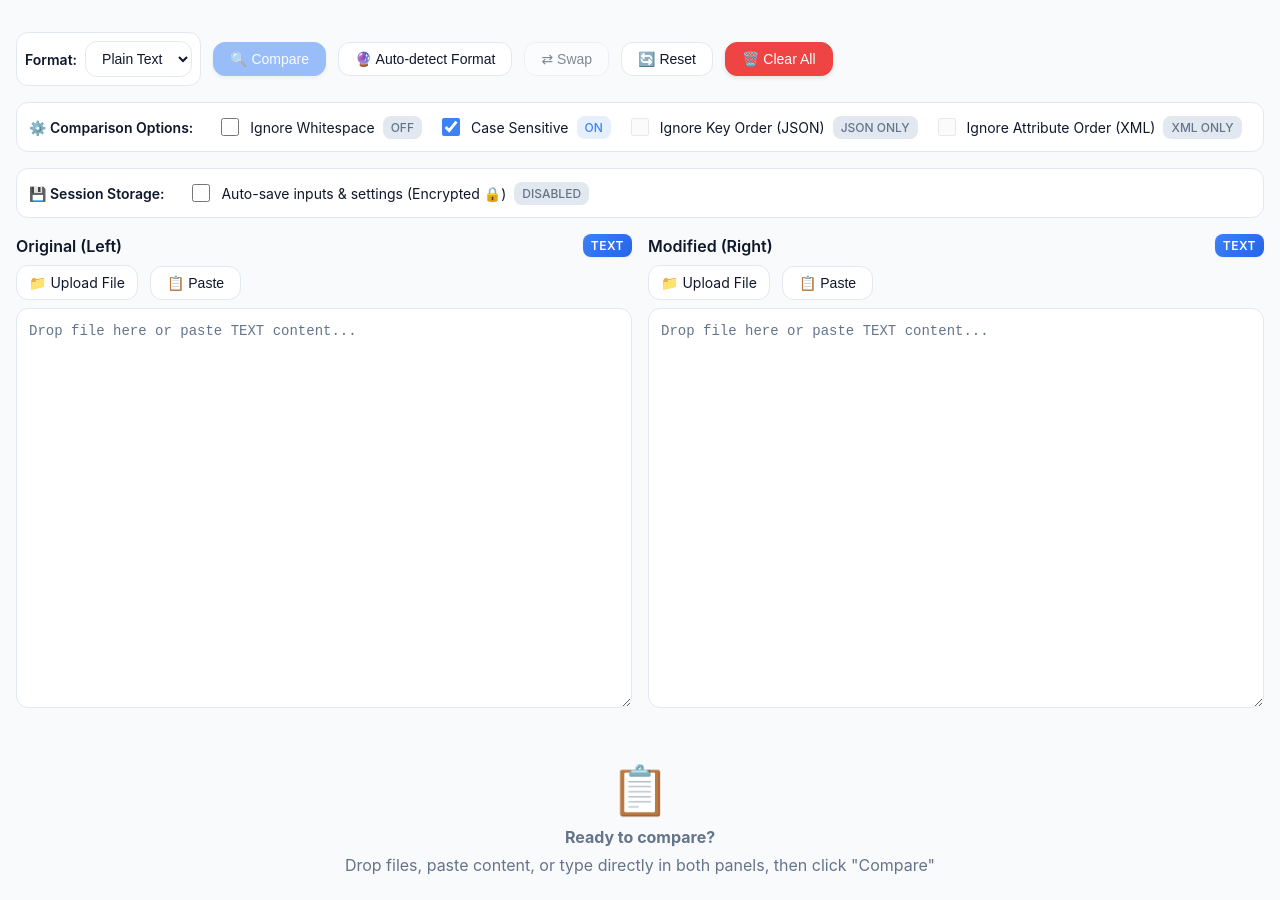
Test: DiffChecker Component › Swap Functionality › should swap left and right inputs
Type "Left content" into the text box with placeholder "Drop file here or paste TEXT content..." below "Original (Left)" at (324, 508), box [16,308,632,708]
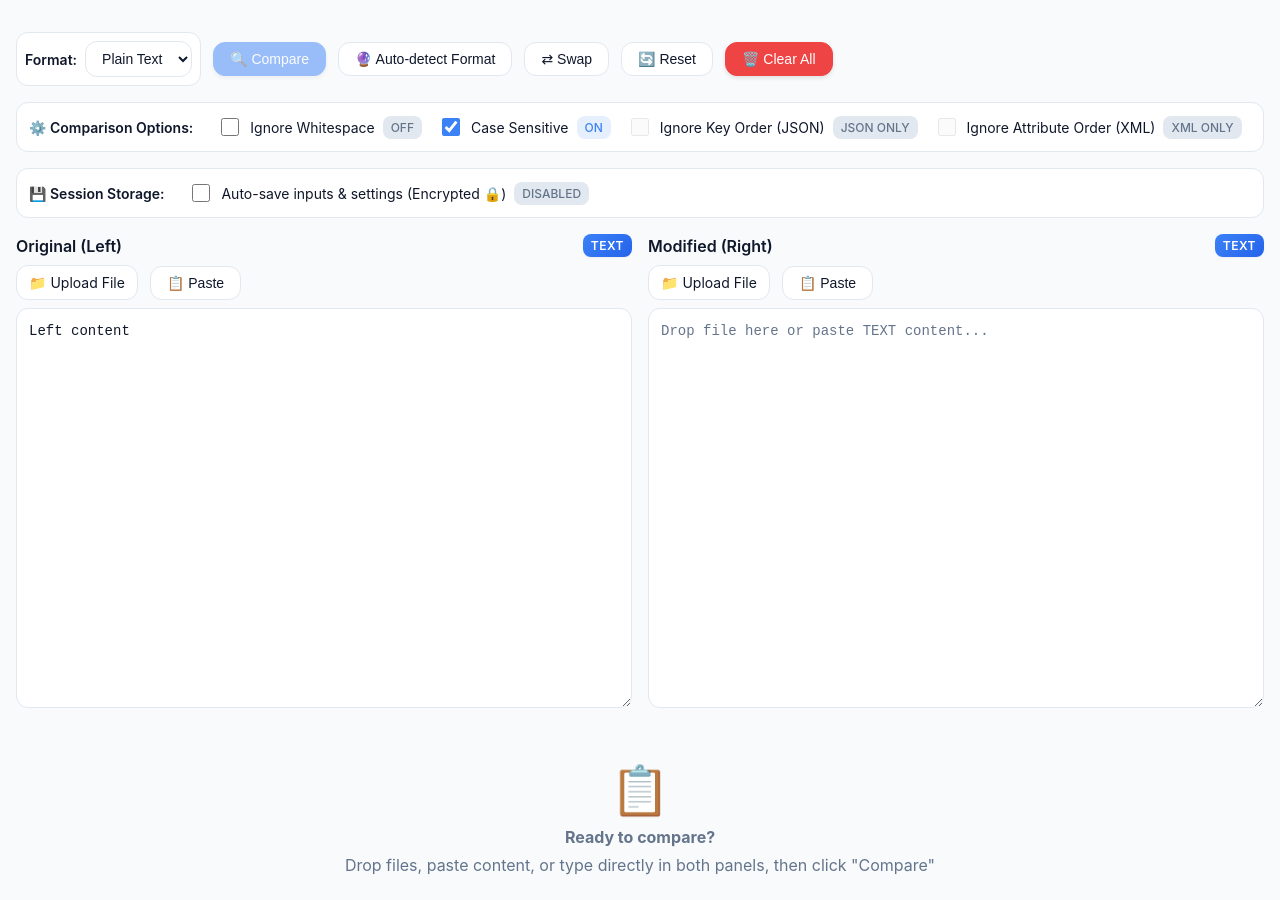
Type "Right content" into the text box with placeholder "Drop file here or paste TEXT content..." at (956, 508), box [648,308,1264,708]
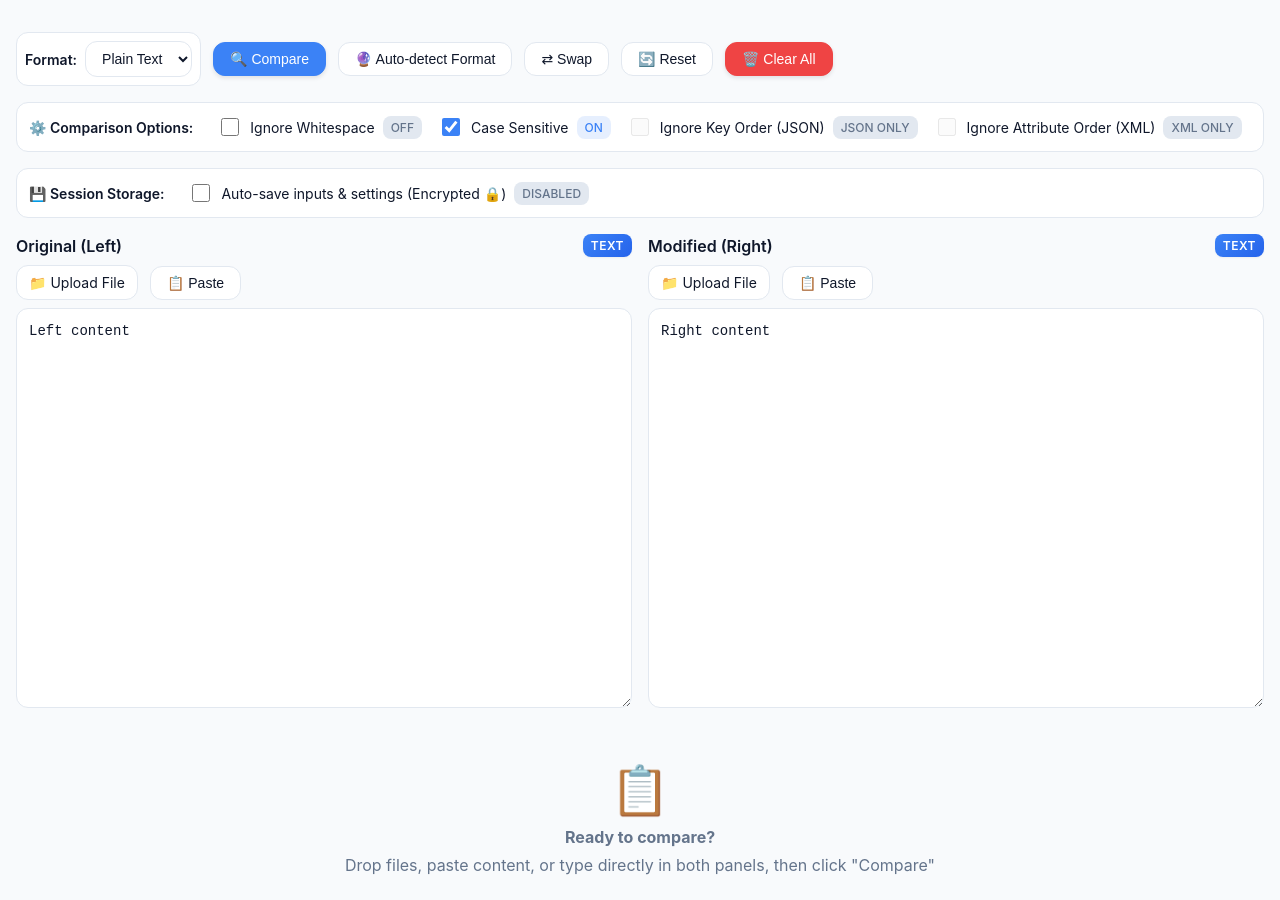
Click the button "⇄ Swap" at (567, 59), box [524,42,609,76]
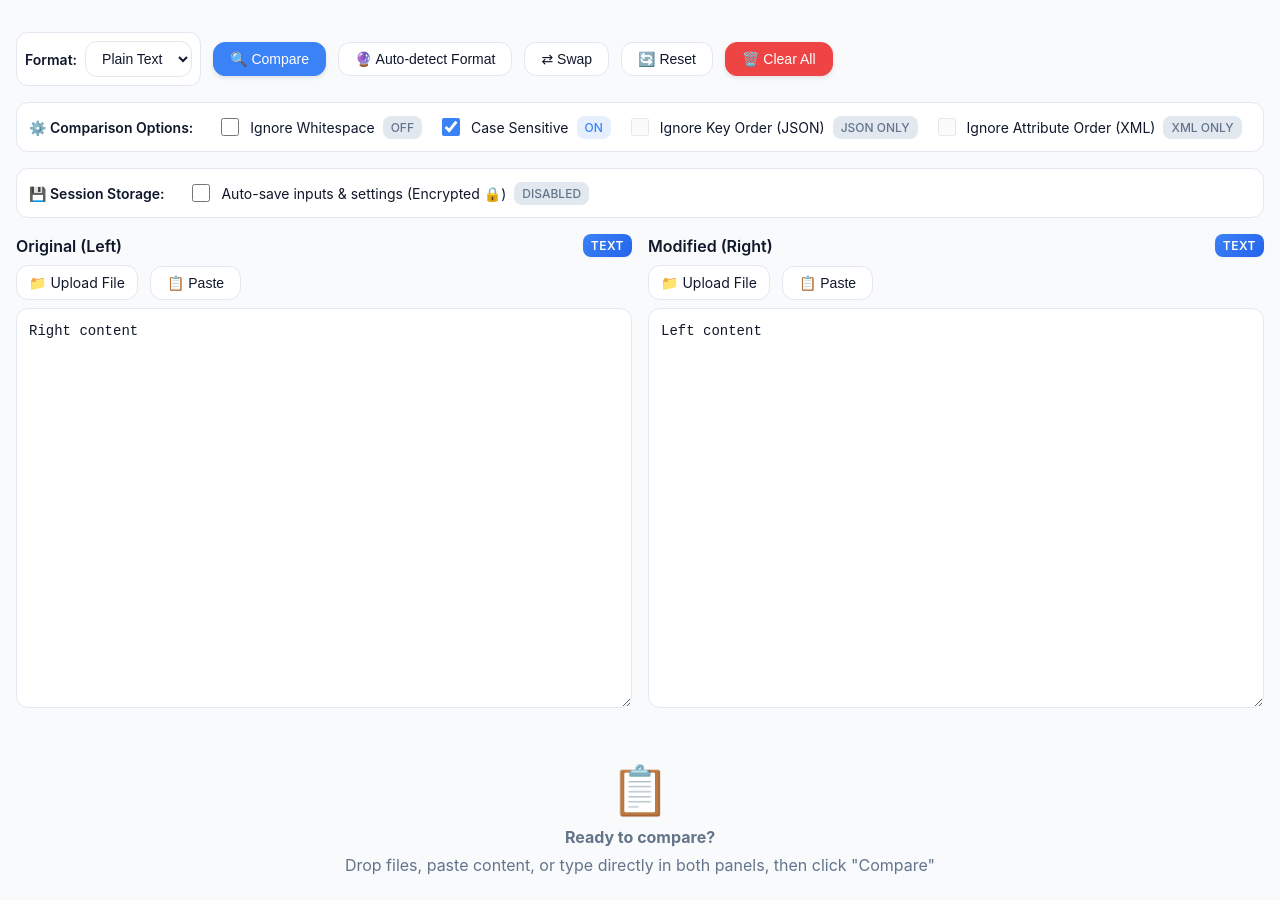
Check: the text box named "Left input text area" holds "Right content", box [16,308,632,708]
Check: the text box named "Right input text area" holds "Left content", box [648,308,1264,708]
